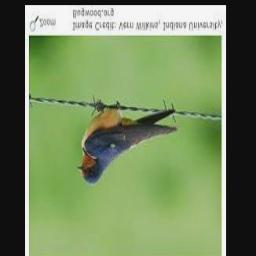Swallow: (77, 107, 177, 185)
